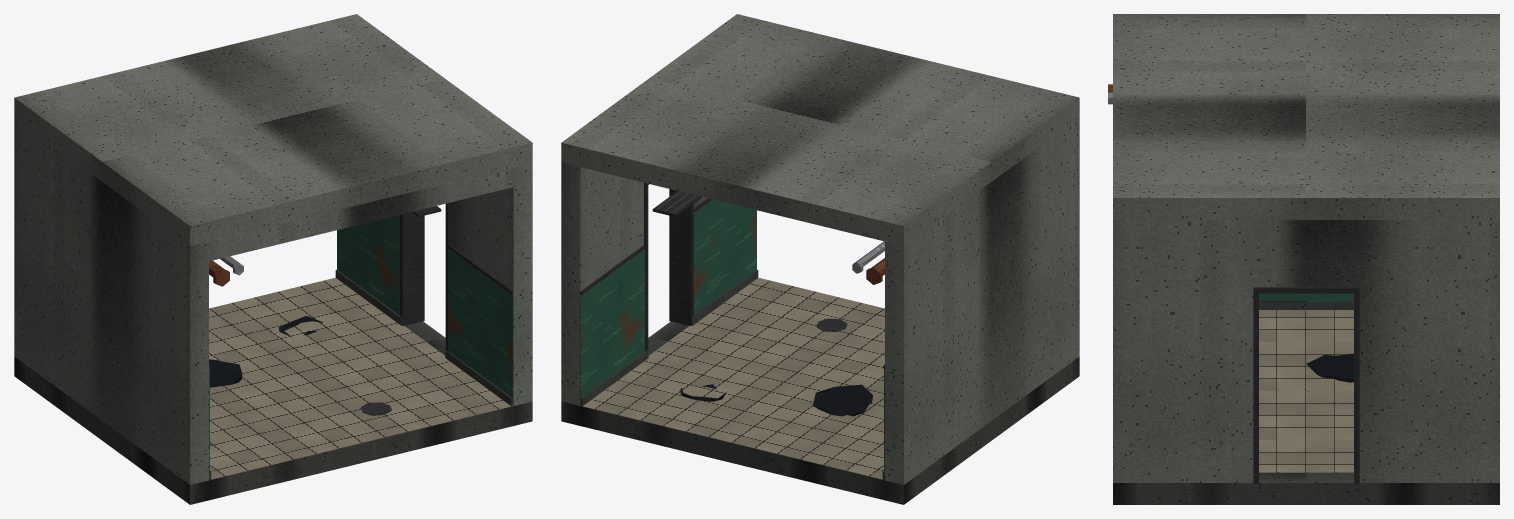
File: corridor_door_side.glb
The picture shows the model from 3 angles, left to right: view 1: azimuth 30°, elevation 25°; view 2: azimuth 150°, elevation 25°; view 3: azimuth 270°, elevation 25°; orthographic projection. The views are drawn at different scales.
Visible parts, largest first — view 1: corridor_door_side; view 2: corridor_door_side; view 3: corridor_door_side.
Boxes of the visible parts, x1,y1,x2,y2 form: corridor_door_side: (14, 14, 532, 504); corridor_door_side: (561, 14, 1079, 504); corridor_door_side: (1108, 14, 1499, 504).
Size of what is drawn, in the model's own units: 4.52 by 3.5 by 4.05.
12 materials, 8 textured.
